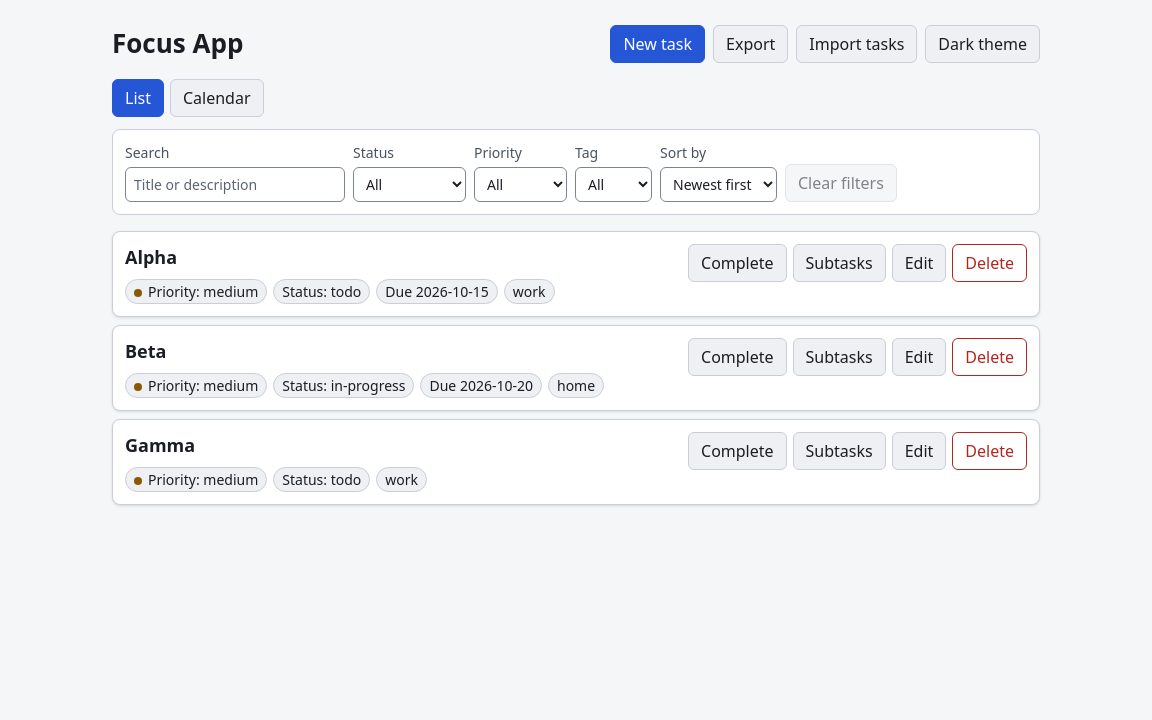
Test: switching between the list and the calendar › shows the list by default, and the calendar replaces it when chosen
Click the button "Calendar" at (217, 98), box top-left (170, 79), bottom-right (264, 117)
(page scrolled)
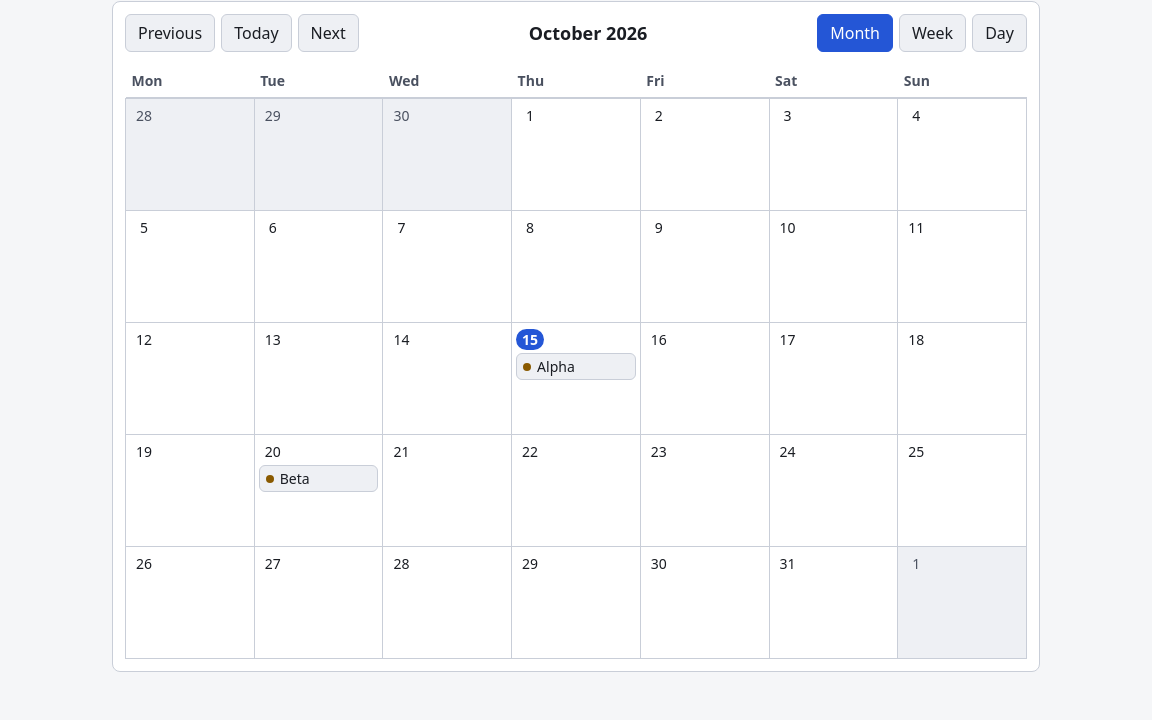
expect the table is shown: met
expect the heading "Gamma" is gone: met
expect the heading "October 2026" is shown: met, box top-left (529, 20), bottom-right (647, 44)
